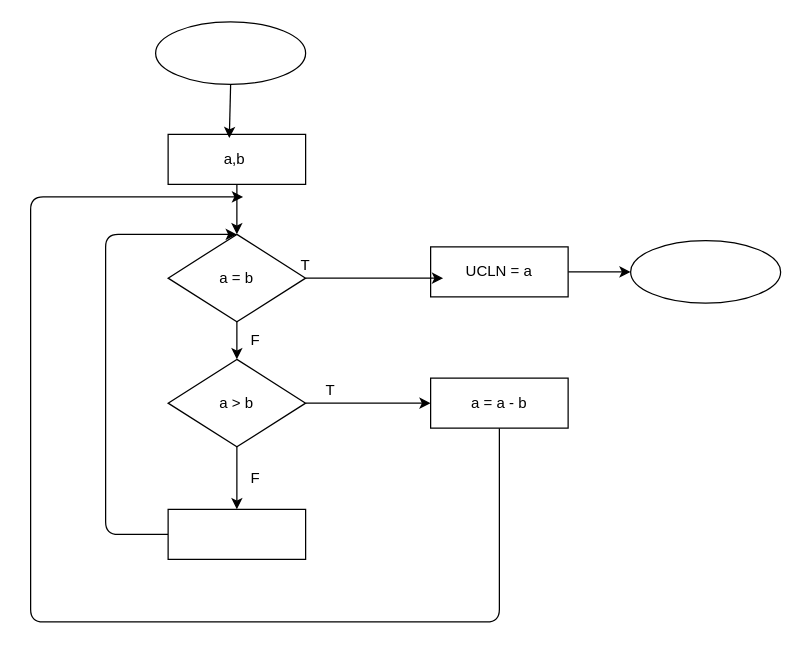
Image size: 803x654. Some labels were removed from this diagram. Here are the shapes that lost their labels. From the top down, the centre of each, then its label:
At pixel 230 52: "START".
At pixel 705 271: "END".
At pixel 236 533: "b = b - a".
